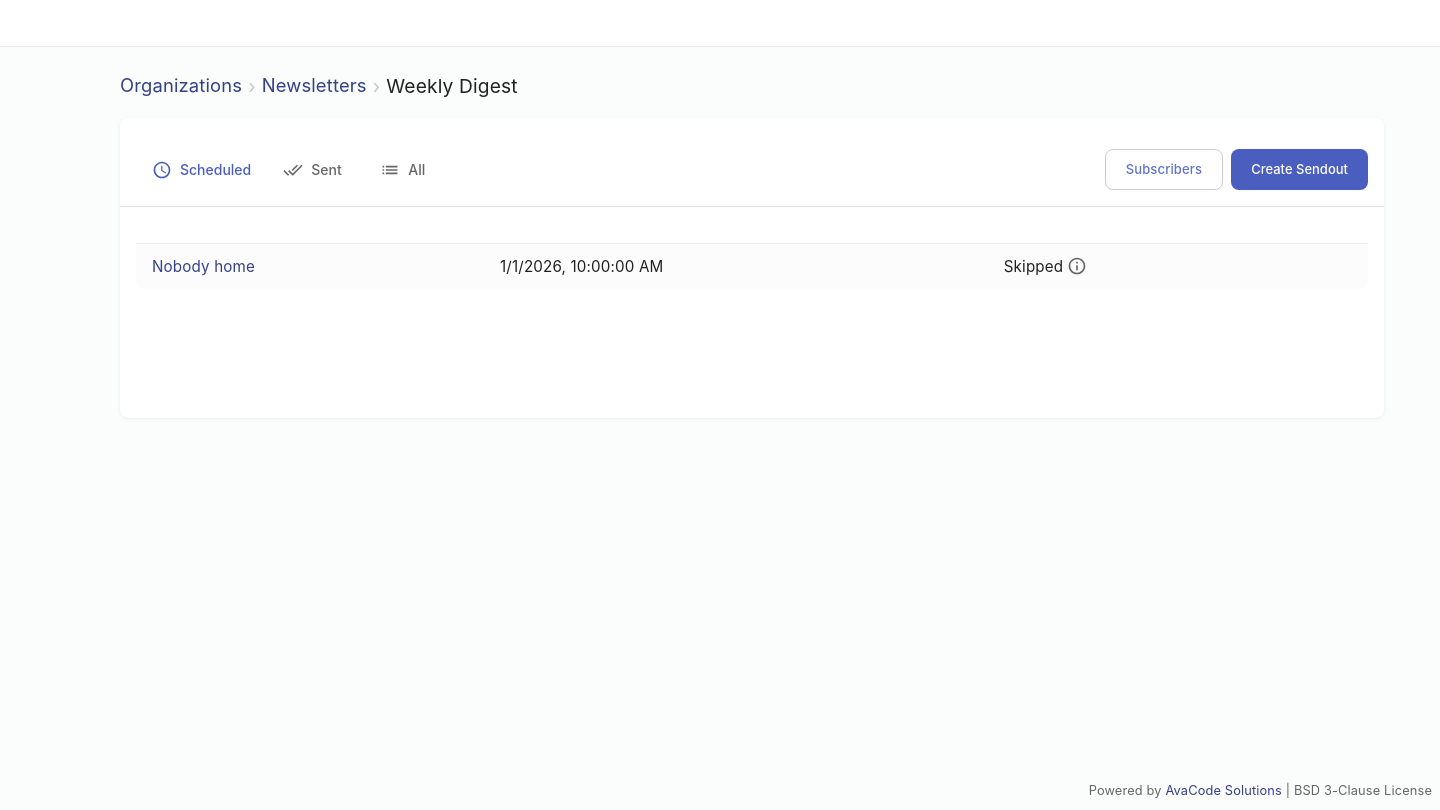
Test: Newsletter › Skipped sendouts › shows the skip reason and offers no delete button
Expected: the text "Skipped" is shown, x1=1004 y1=256 x2=1087 y2=277
Hover over the icon with test id "InfoOutlinedIcon" at [1077, 266], box x1=1067 y1=256 x2=1087 y2=276
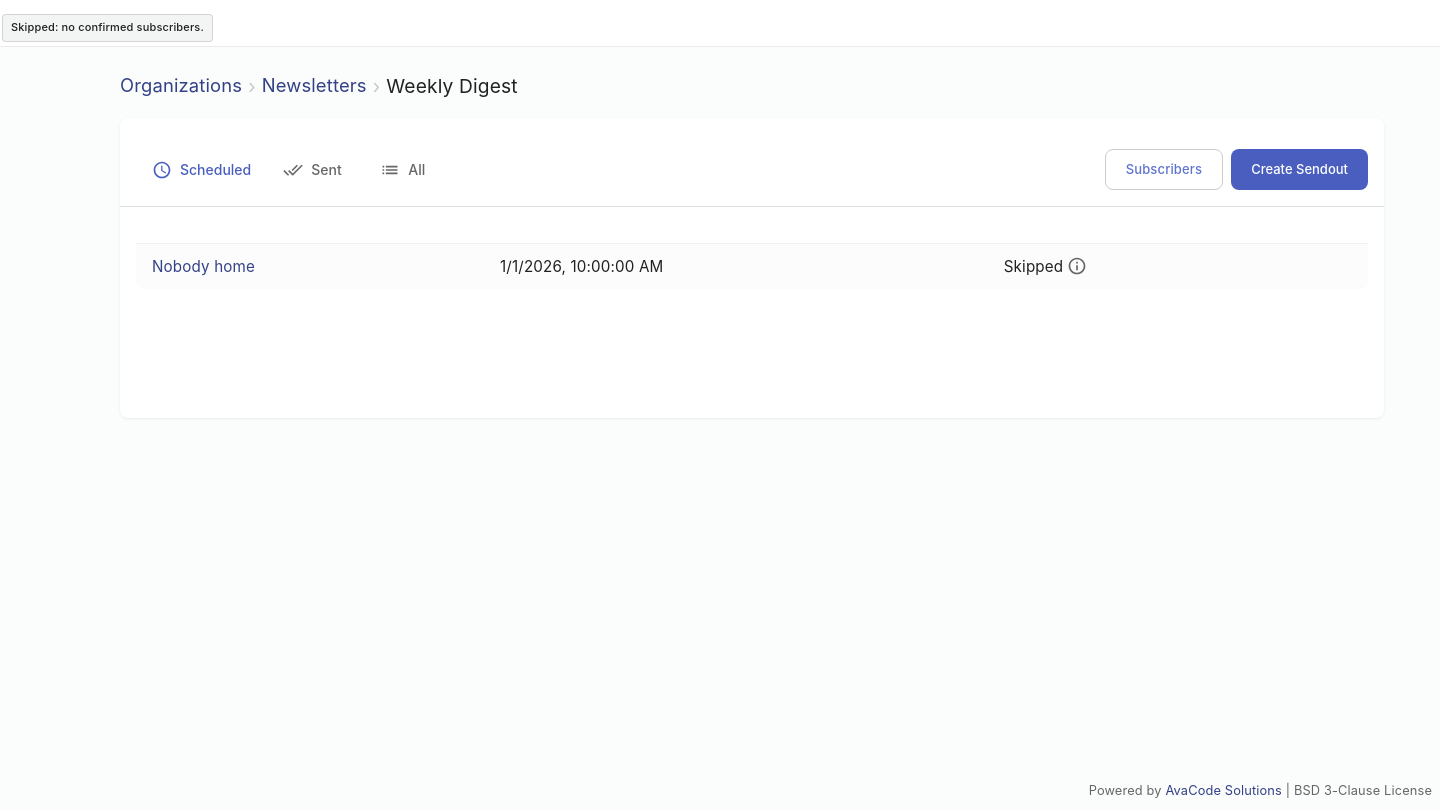
Now the text "Skipped: no confirmed subscribers." is shown, box x1=2 y1=14 x2=213 y2=42
